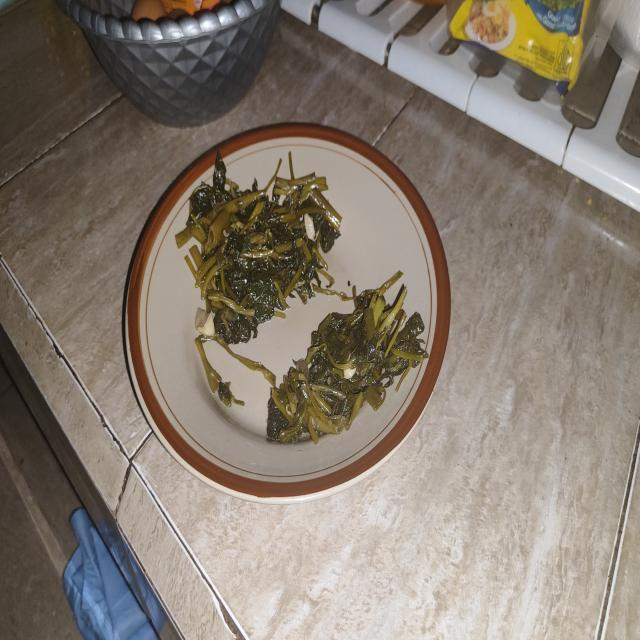tumis_kangkung: (176, 158, 342, 344), (266, 280, 428, 444)
